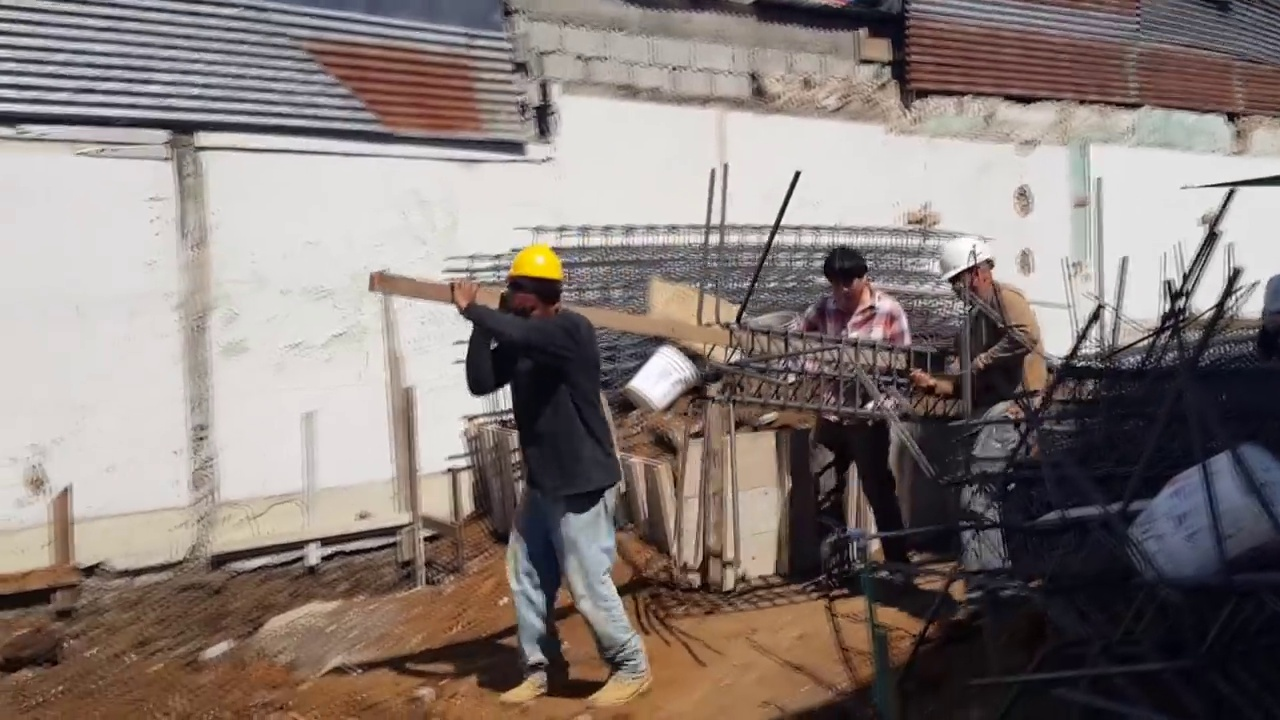helmet: (935, 229, 997, 284), (502, 244, 565, 284)
helmet-off: (823, 247, 873, 312)
helmet-on: (936, 233, 1001, 306), (502, 247, 562, 319)
person: (460, 227, 638, 703), (910, 236, 1049, 598), (778, 245, 923, 589)
